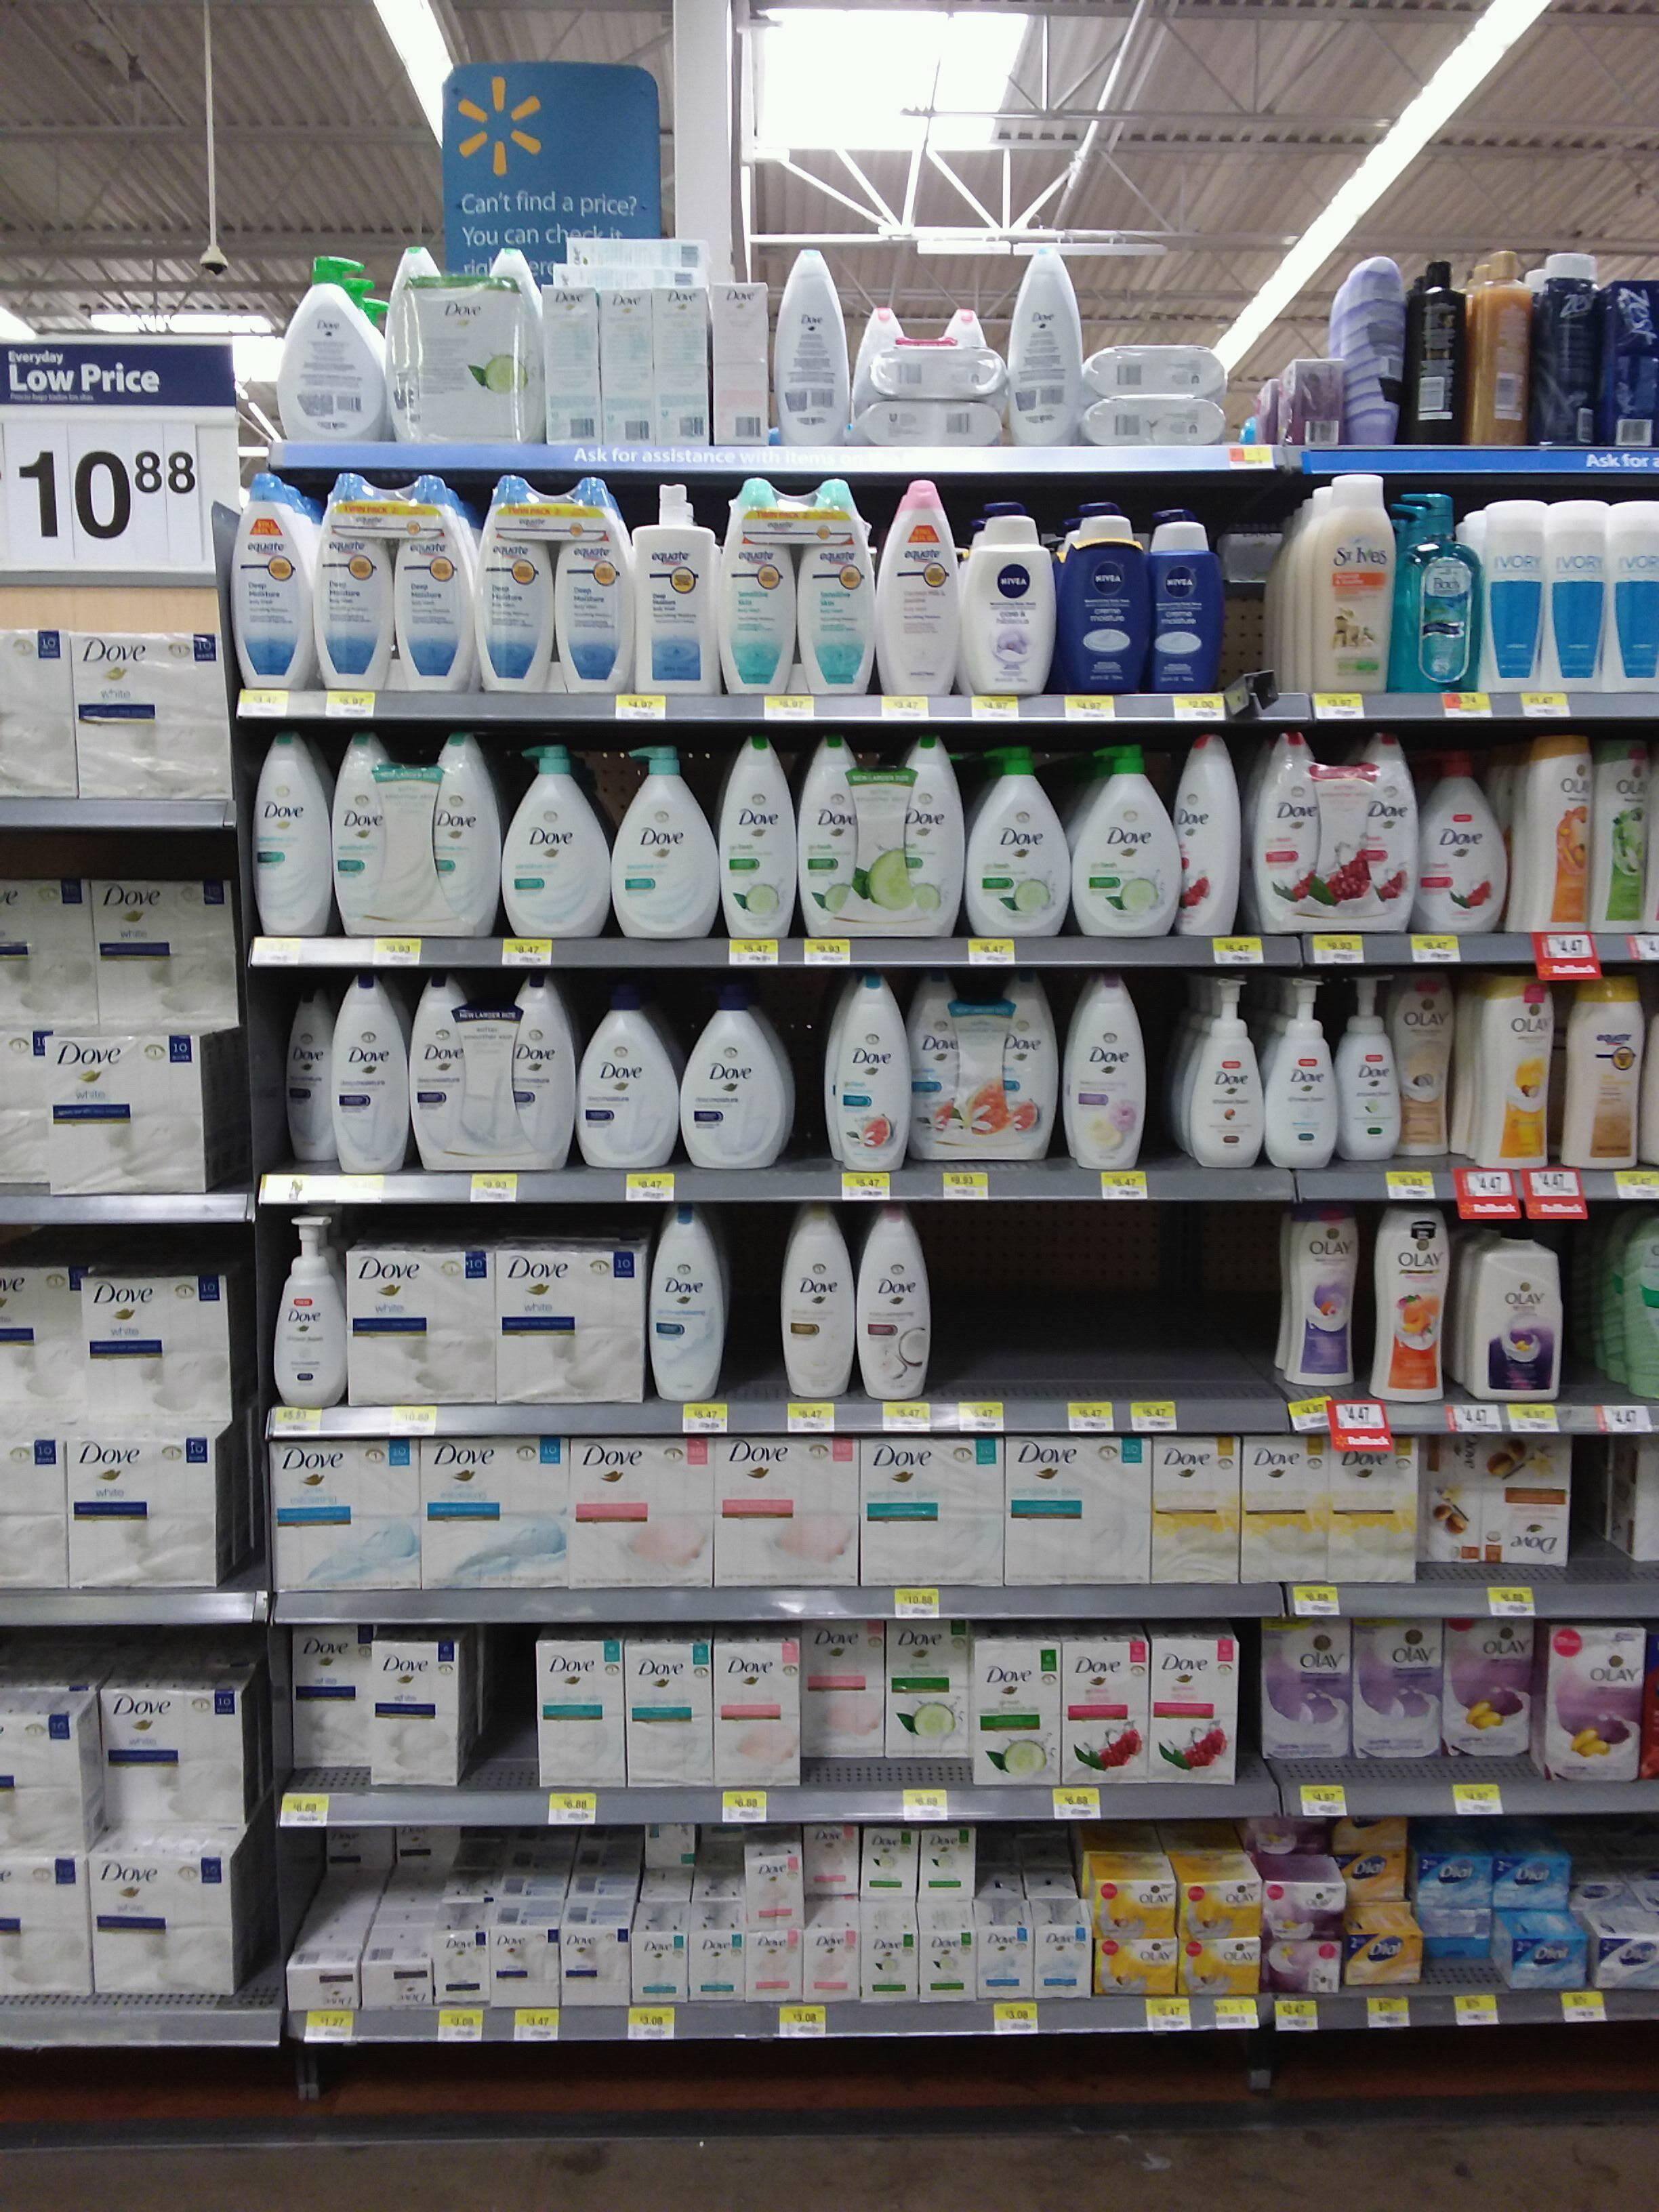empty: (1169, 1216, 1267, 1400), (1560, 1226, 1638, 1409), (1009, 1217, 1086, 1402), (934, 1216, 1009, 1400), (1089, 1217, 1164, 1402), (721, 1217, 784, 1402), (467, 1644, 542, 1794), (1570, 1444, 1628, 1595)
